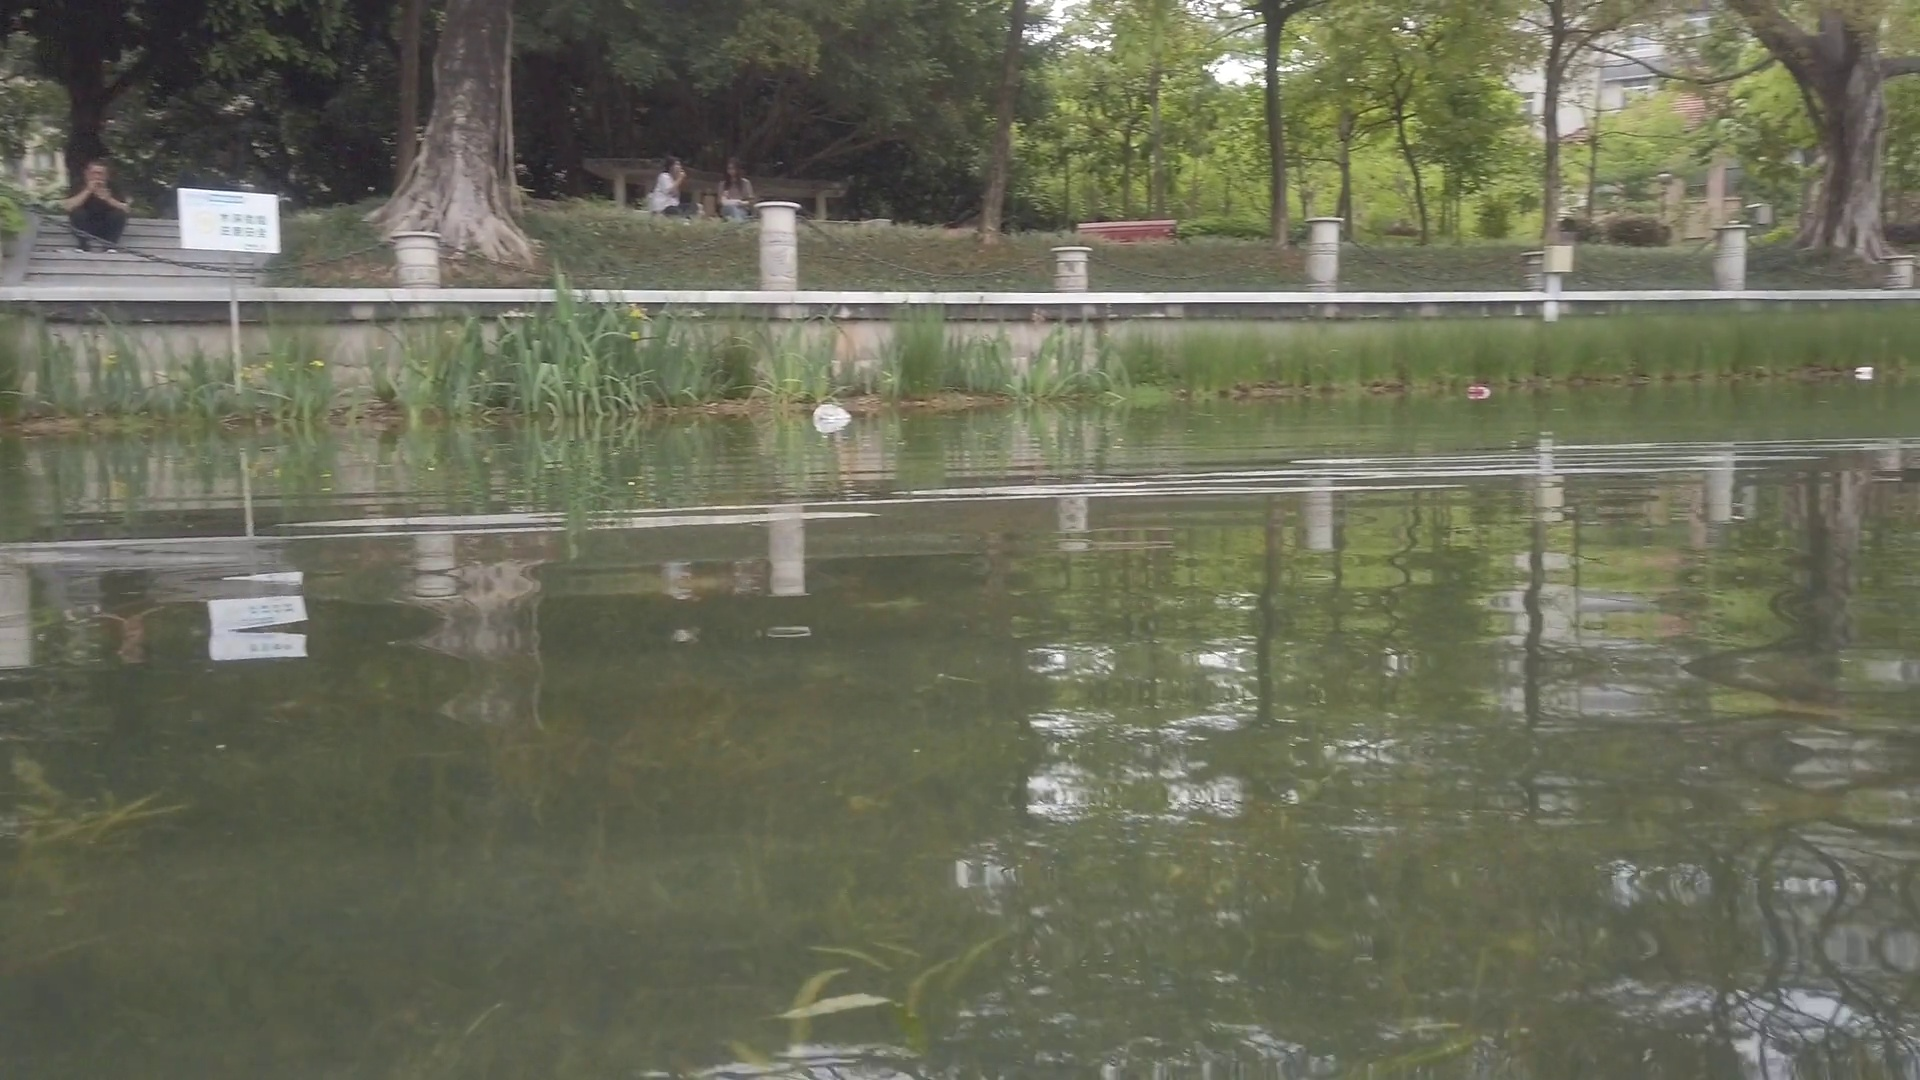bottle: (1466, 385, 1490, 396)
carton: (1855, 367, 1874, 375)
plastic: (814, 406, 852, 419)
